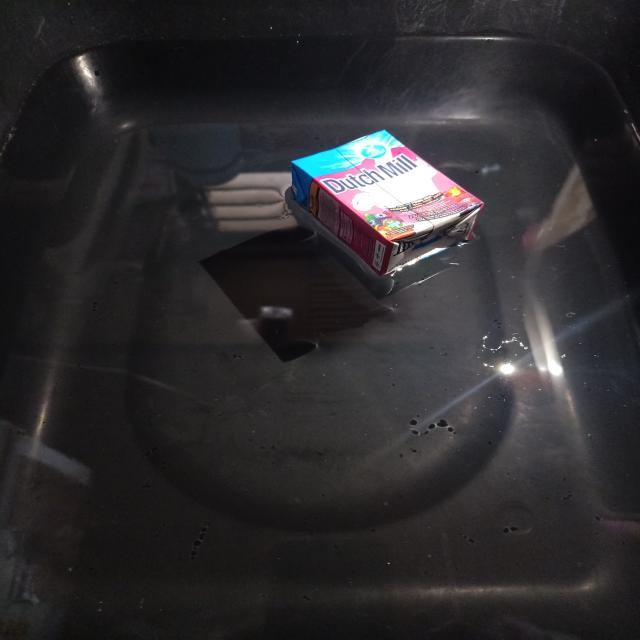Cardboard Box: (291, 130, 484, 277)
